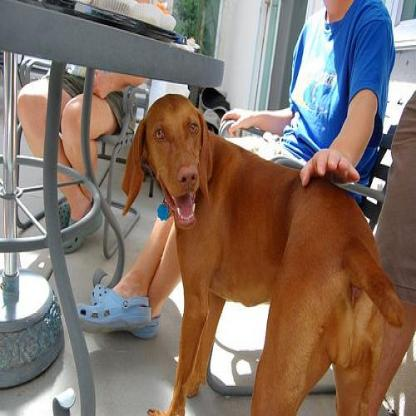vizsla: (121, 92, 405, 414)
